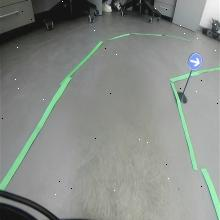right: (188, 52, 202, 71)
